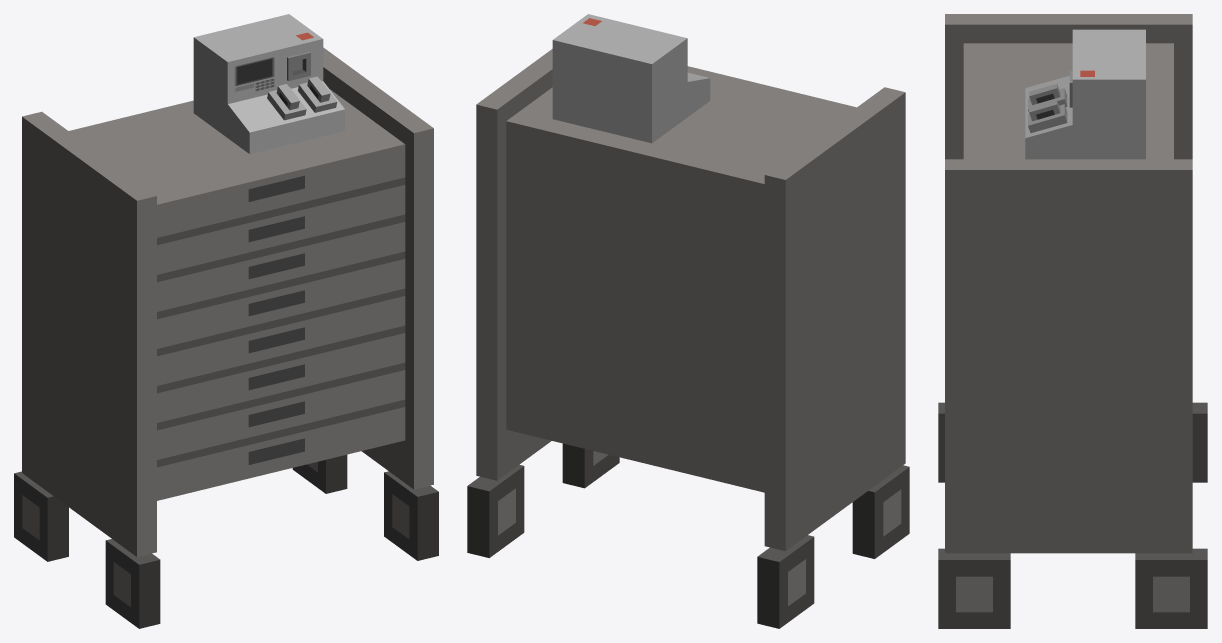
Rendered from AI_Prop_MedicalCabinet.fbx.
3 views of the same model, side by side, from view 1: azimuth 30°, elevation 25°; view 2: azimuth 150°, elevation 25°; view 3: azimuth 270°, elevation 25° (orthographic). The views are drawn at different scales.
Visible parts, largest first — view 1: AI_Prop_MedicalCabinet; view 2: AI_Prop_MedicalCabinet; view 3: AI_Prop_MedicalCabinet.
Part boxes in pixels (<box>): AI_Prop_MedicalCabinet: <box>14,14,438,628</box>; AI_Prop_MedicalCabinet: <box>467,14,909,628</box>; AI_Prop_MedicalCabinet: <box>938,14,1207,628</box>.
Bounding box in the file's own units: 1.34 × 2.07 × 0.9681.
